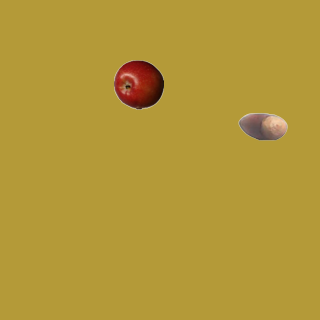Apple Braeburn: (113, 59, 163, 109)
Hazelnut: (237, 101, 287, 151)
